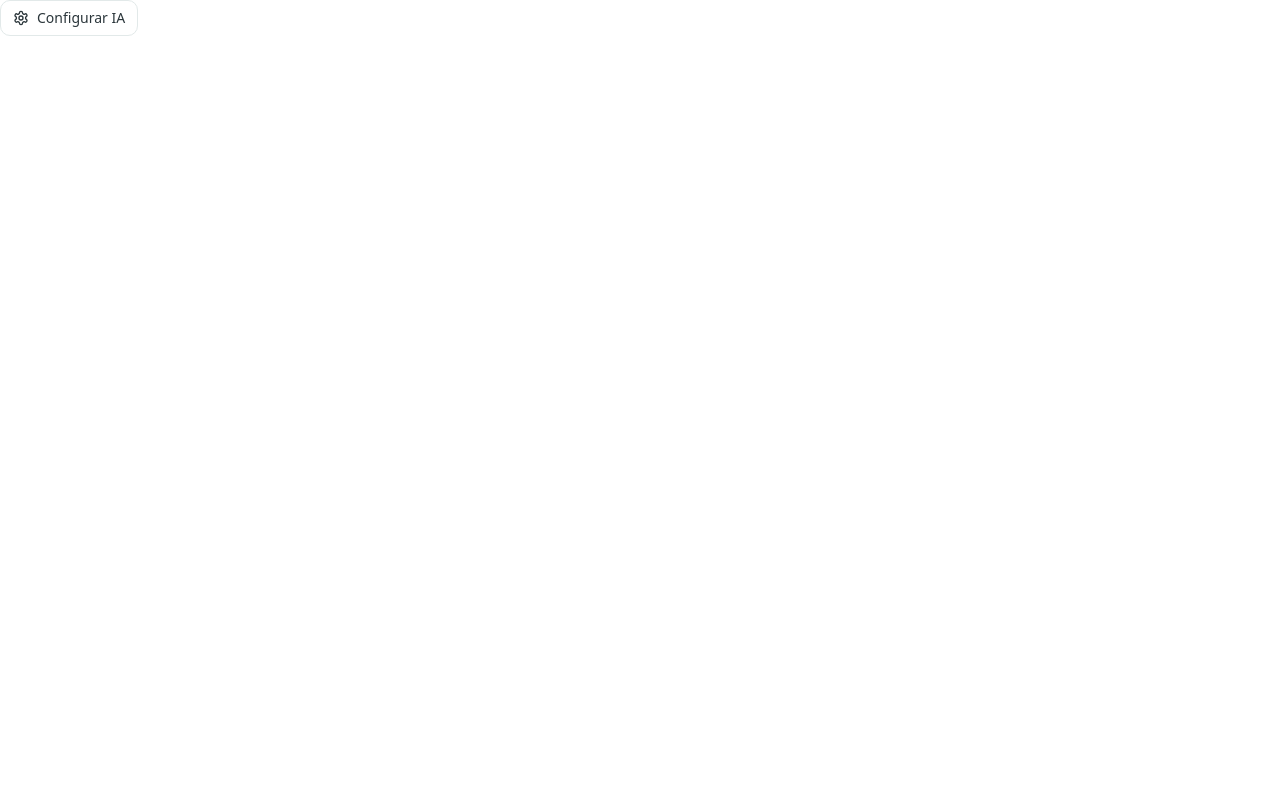
AIConfigurationModal › gravar novo valor: a chave digitada vai pela RPC set_ai_api_key
The width and height of the screenshot is (1280, 800).
Later steps or results of the test are not shown.
Click the button "Configurar IA": x=69, y=18 left=0, top=0, right=138, bottom=36
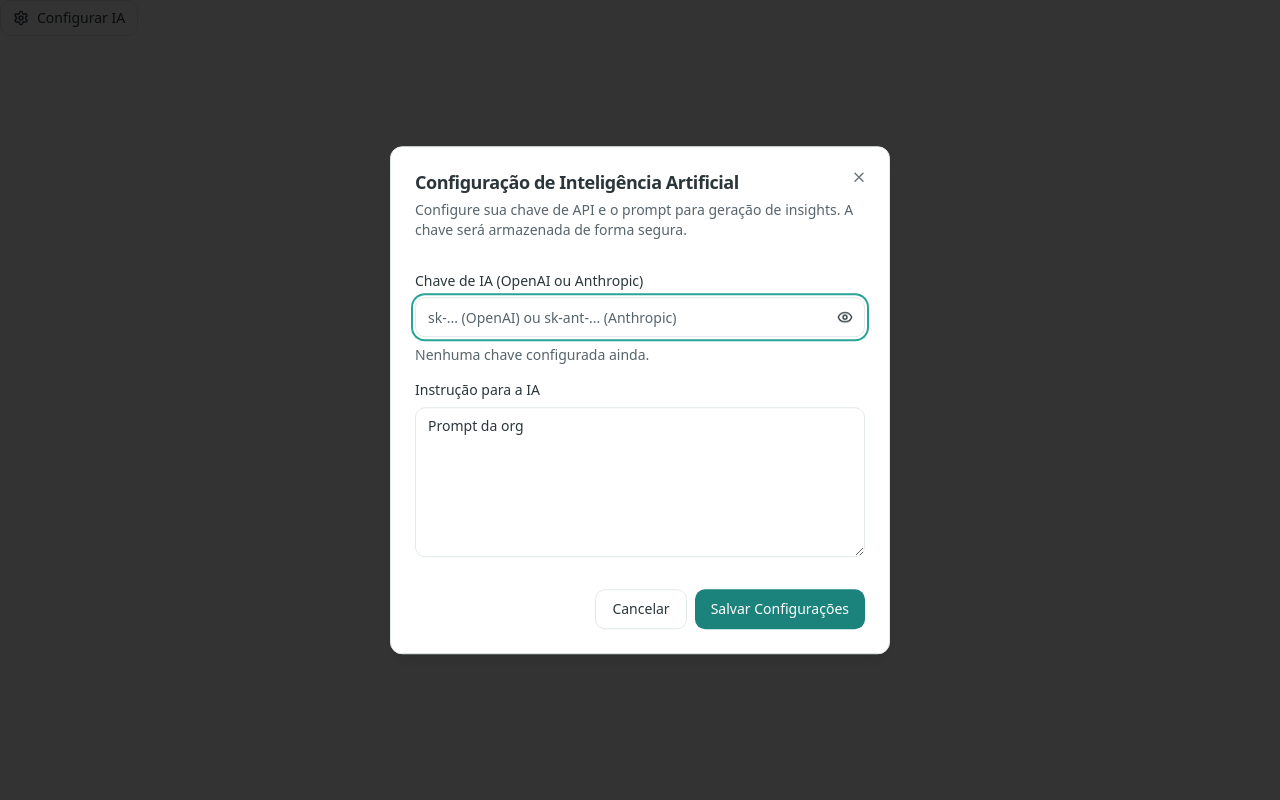
Now the text box showing "Prompt da org" is shown, box left=415, top=407, right=865, bottom=557
